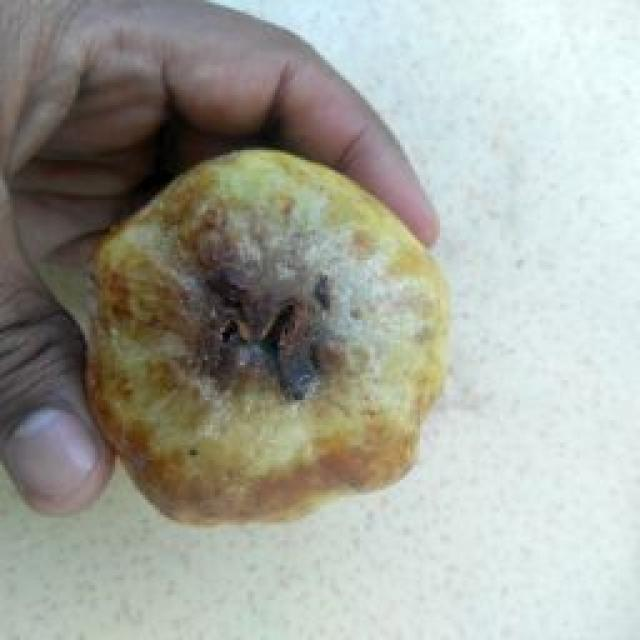Bad_Guava: (89, 151, 448, 522)
